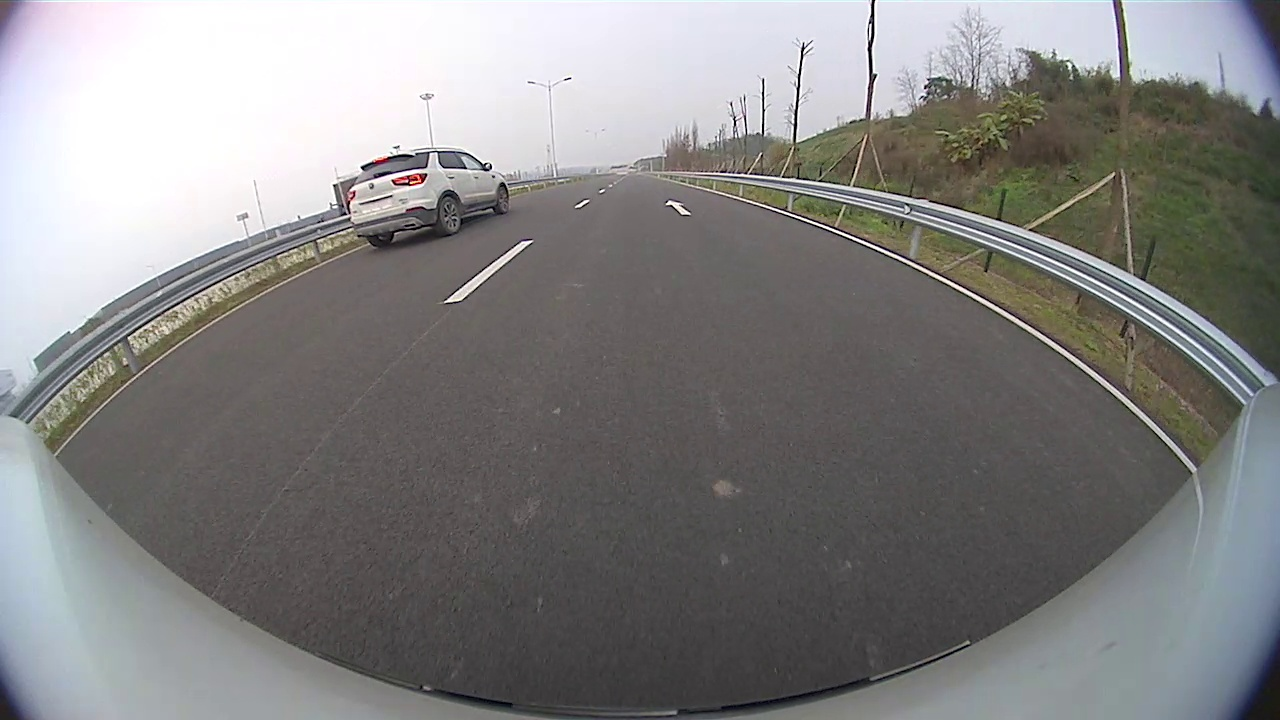car: (347, 147, 510, 245)
front: (492, 183, 509, 217)
rear: (435, 196, 462, 237)
